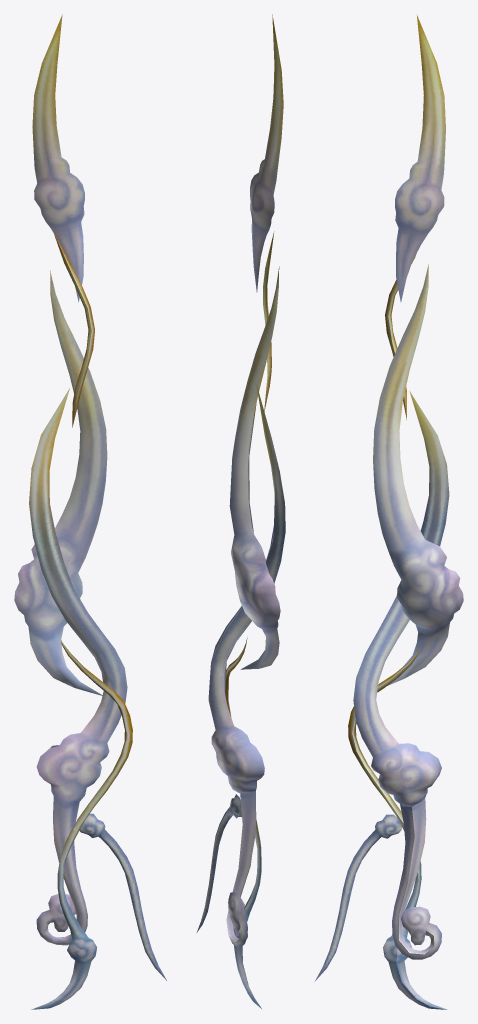
File: chuanyun.FBX
3 renders of one model, left to right at view 1: azimuth 90°, elevation 25°; view 2: azimuth 210°, elevation 25°; view 3: azimuth 270°, elevation 25°, orthographic. The views are drawn at different scales.
Parts seen in each view (by area): view 1: 23fd348.obj; view 2: 23fd348.obj; view 3: 23fd348.obj.
Boxes of the visible parts, <box> form: 23fd348.obj: <box>14,14,166,1009</box>; 23fd348.obj: <box>196,14,285,1008</box>; 23fd348.obj: <box>315,14,463,1009</box>.
Size of the model in its own units: 5.91 by 104 by 14.38.
Materials: 1 (1 with a texture image).
